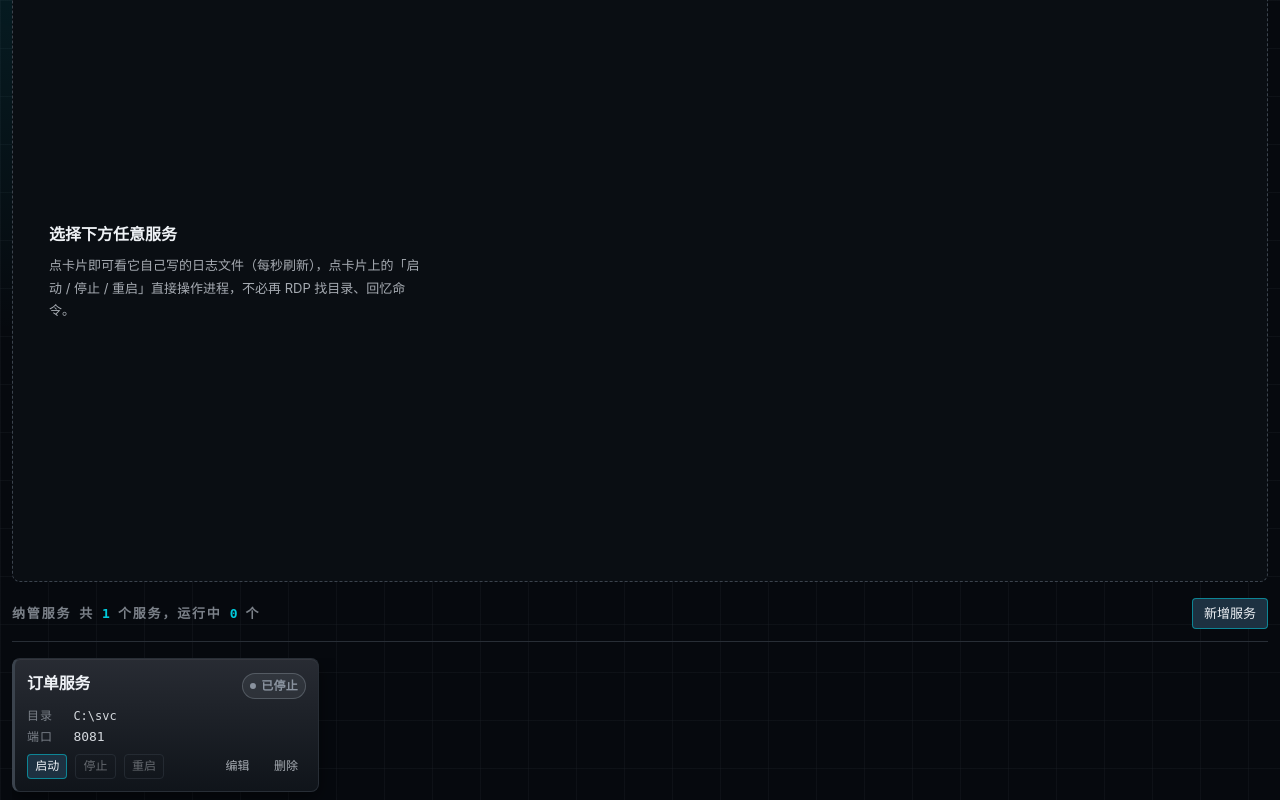
App › 点卡片直接切到该服务的日志视图，并按 1s 节奏拉取（此处用超大间隔只验证首拉）
(page scrolled)
Expected: the button "订单服务" is shown, [27,671,90,695]
Click the text "C:\\svc": click(95, 716) [73,707,117,725]
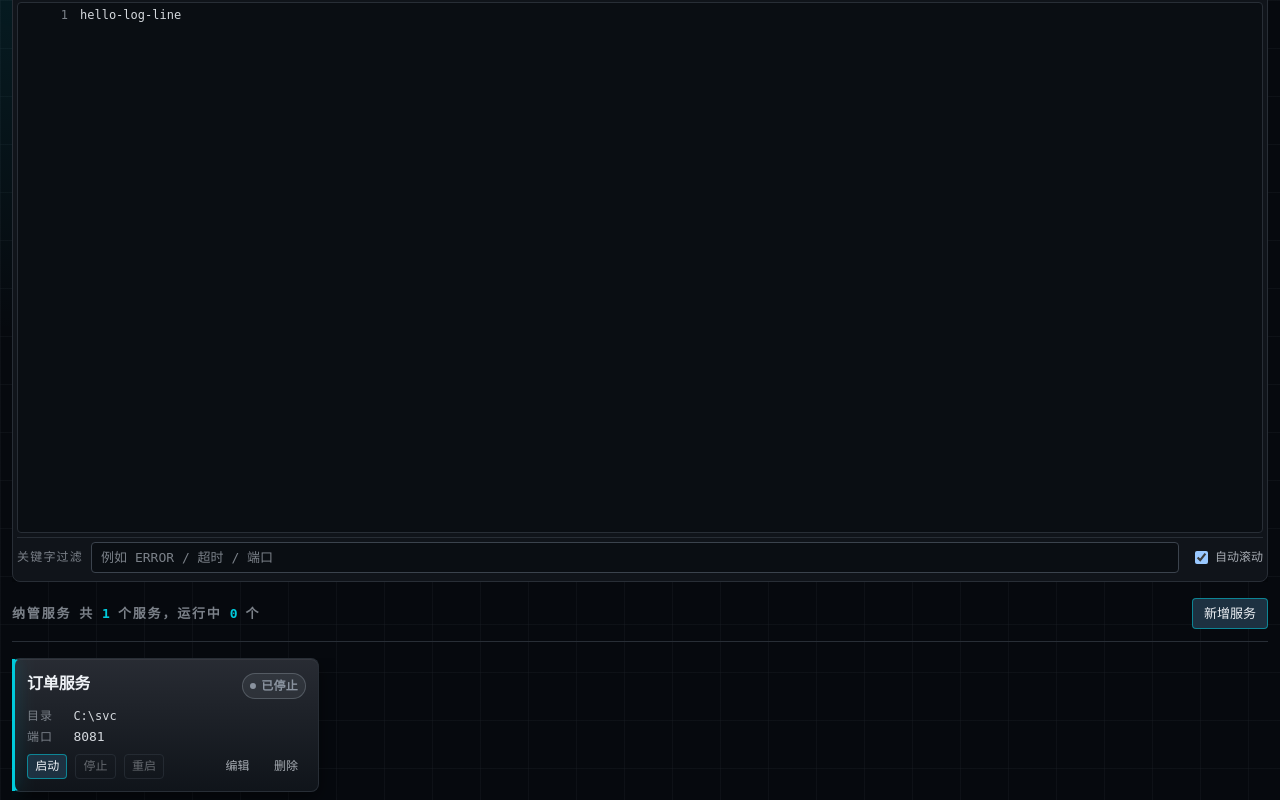
Result: the text "hello-log-line" is shown at [80,8,181,22]
